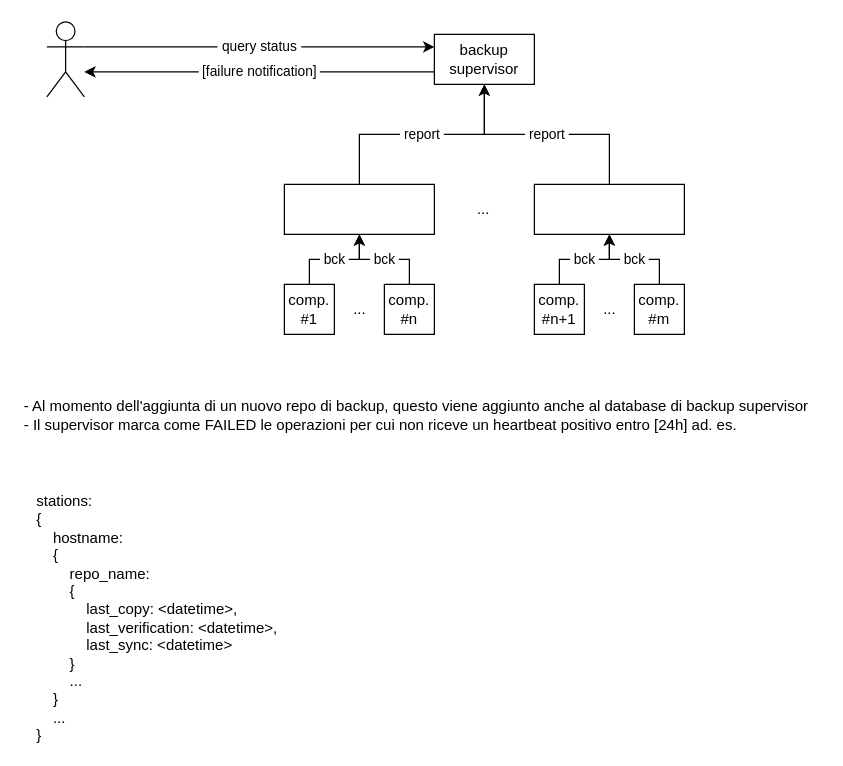
Image size: 843x766. Some labels were removed from this diagram. Here are the shapes that lost their labels. From the top down, the centre of each, then its label:
point (65, 59): user
point (358, 208): backup station #1
point (608, 208): backup station #n
